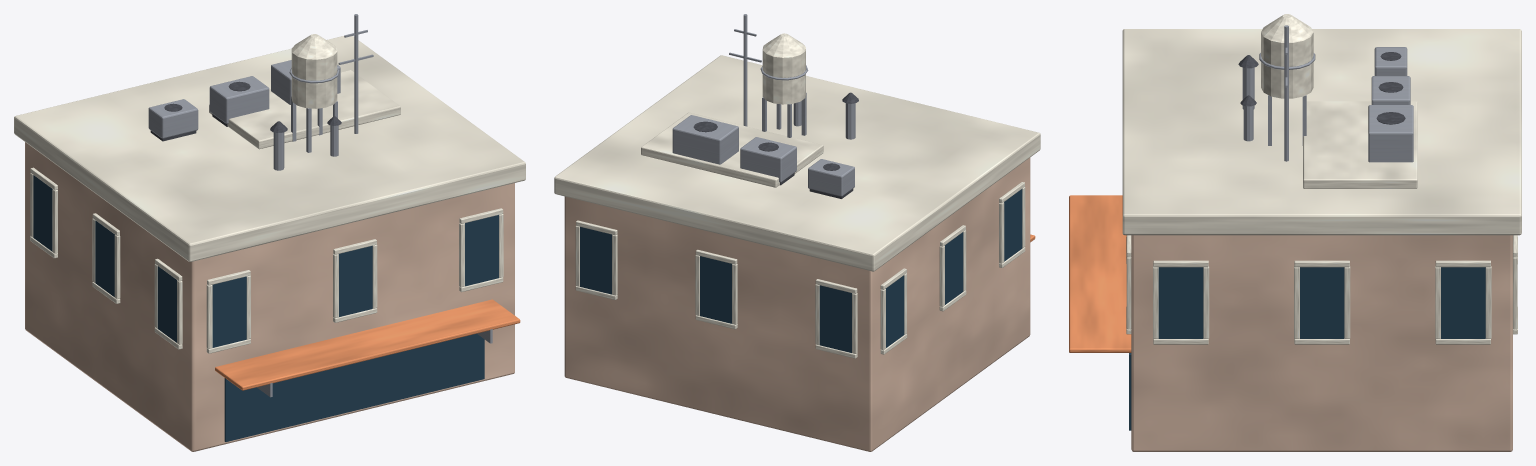
Rendered from bldg_shop_showcase.glb.
3 views of the same model, side by side, from view 1: azimuth 30°, elevation 25°; view 2: azimuth 150°, elevation 25°; view 3: azimuth 270°, elevation 25° (orthographic). The views are drawn at different scales.
Parts seen in each view (by area): view 1: bldg_shop_showcase_body, bldg_shop_showcase_parapet, bldg_shop_showcase_shopfront, bldg_shop_showcase_awning, bldg_shop_showcase_roof_curb, bldg_shop_showcase_tank_a_barrel, bldg_shop_showcase_upper_back_0_glass, bldg_shop_showcase_upper_back_2_glass, bldg_shop_showcase_upper_back_1_glass, bldg_shop_showcase_ac_1_case, bldg_shop_showcase_ac_0_case, bldg_shop_showcase_upper_right_0_glass (+5 smaller); view 2: bldg_shop_showcase_body, bldg_shop_showcase_parapet, bldg_shop_showcase_roof_curb, bldg_shop_showcase_ac_2_case, bldg_shop_showcase_upper_front_0_glass, bldg_shop_showcase_tank_a_barrel, bldg_shop_showcase_upper_front_1_glass, bldg_shop_showcase_upper_front_2_glass, bldg_shop_showcase_ac_1_case, bldg_shop_showcase_ac_0_case, bldg_shop_showcase_upper_right_0_glass, bldg_shop_showcase_upper_right_1_glass (+3 smaller); view 3: bldg_shop_showcase_body, bldg_shop_showcase_parapet, bldg_shop_showcase_awning, bldg_shop_showcase_roof_curb, bldg_shop_showcase_upper_left_0_glass, bldg_shop_showcase_upper_left_1_glass, bldg_shop_showcase_upper_left_2_glass, bldg_shop_showcase_tank_a_barrel, bldg_shop_showcase_ac_2_case, bldg_shop_showcase_tank_a_cap, bldg_shop_showcase_ac_1_case, bldg_shop_showcase_ac_0_case (+4 smaller).
Part boxes in pixels (<box>): bldg_shop_showcase_body: <box>25,142,514,451</box>; bldg_shop_showcase_parapet: <box>14,36,525,261</box>; bldg_shop_showcase_shopfront: <box>224,333,484,441</box>; bldg_shop_showcase_awning: <box>215,299,520,390</box>; bldg_shop_showcase_roof_curb: <box>209,70,400,149</box>; bldg_shop_showcase_tank_a_barrel: <box>291,50,337,108</box>; bldg_shop_showcase_upper_back_0_glass: <box>212,276,246,347</box>; bldg_shop_showcase_upper_back_2_glass: <box>465,215,498,286</box>; bldg_shop_showcase_upper_back_1_glass: <box>338,246,372,316</box>; bldg_shop_showcase_ac_1_case: <box>209,76,269,123</box>; bldg_shop_showcase_ac_0_case: <box>148,99,198,138</box>; bldg_shop_showcase_upper_right_0_glass: <box>157,266,176,342</box>; bldg_shop_showcase_body: <box>564,157,1030,451</box>; bldg_shop_showcase_parapet: <box>554,55,1040,271</box>; bldg_shop_showcase_roof_curb: <box>641,112,823,187</box>; bldg_shop_showcase_ac_2_case: <box>672,115,738,164</box>; bldg_shop_showcase_upper_front_0_glass: <box>819,285,851,352</box>; bldg_shop_showcase_tank_a_barrel: <box>762,49,805,104</box>; bldg_shop_showcase_upper_front_1_glass: <box>700,256,731,323</box>; bldg_shop_showcase_upper_front_2_glass: <box>580,227,611,294</box>; bldg_shop_showcase_ac_1_case: <box>740,137,796,182</box>; bldg_shop_showcase_ac_0_case: <box>808,159,854,196</box>; bldg_shop_showcase_upper_right_0_glass: <box>1004,189,1022,261</box>; bldg_shop_showcase_upper_right_1_glass: <box>945,232,963,304</box>; bldg_shop_showcase_body: <box>1131,235,1512,451</box>; bldg_shop_showcase_parapet: <box>1122,29,1521,235</box>; bldg_shop_showcase_awning: <box>1069,195,1131,352</box>; bldg_shop_showcase_roof_curb: <box>1303,101,1417,188</box>; bldg_shop_showcase_upper_left_0_glass: <box>1158,267,1203,338</box>; bldg_shop_showcase_upper_left_1_glass: <box>1300,267,1344,338</box>; bldg_shop_showcase_upper_left_2_glass: <box>1441,267,1485,338</box>; bldg_shop_showcase_tank_a_barrel: <box>1261,32,1313,98</box>; bldg_shop_showcase_ac_2_case: <box>1368,105,1413,162</box>; bldg_shop_showcase_tank_a_cap: <box>1261,14,1313,42</box>; bldg_shop_showcase_ac_1_case: <box>1371,76,1410,104</box>; bldg_shop_showcase_ac_0_case: <box>1374,47,1407,75</box>.
Size of the model in its own units: 10.42 by 9.79 by 10.68.
Materials: 6 (6 with a texture image).
